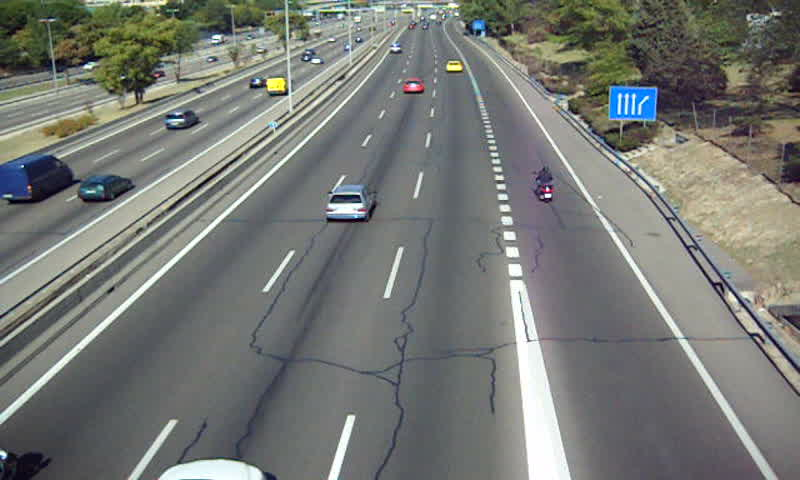car: (324, 186, 377, 220), (402, 78, 422, 96), (446, 61, 463, 72)
motorcycle: (534, 166, 557, 203)
